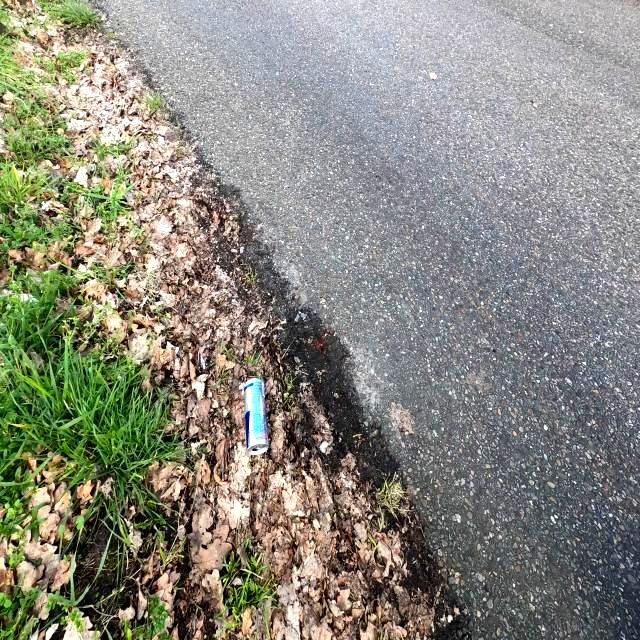Metal: (243, 377, 269, 458)
Plastic: (197, 350, 206, 372)
